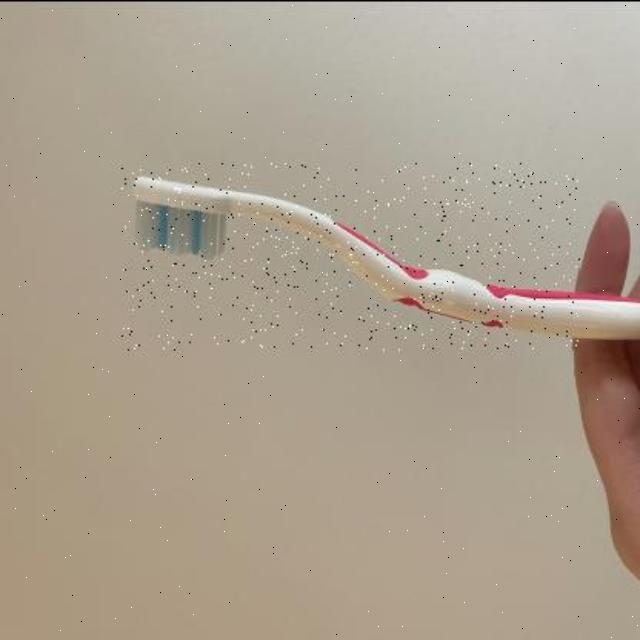toothbrush: (123, 162, 581, 348)
